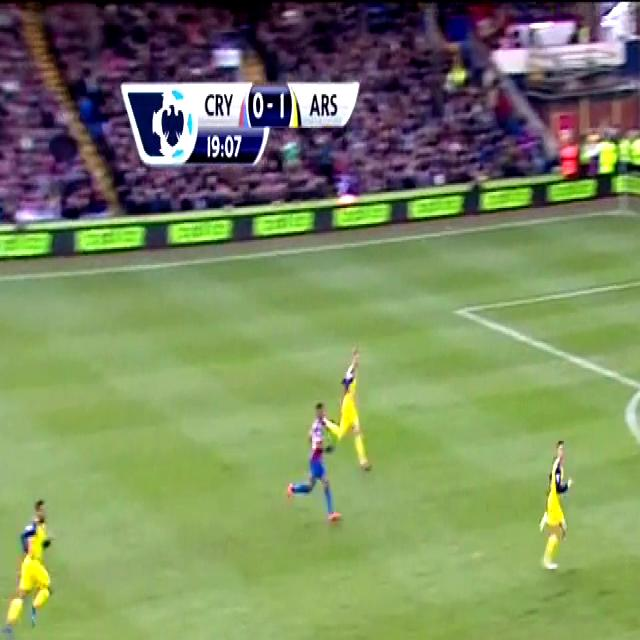soccer-player: (281, 395, 352, 529), (0, 492, 62, 640), (529, 436, 587, 582), (329, 339, 379, 473)
